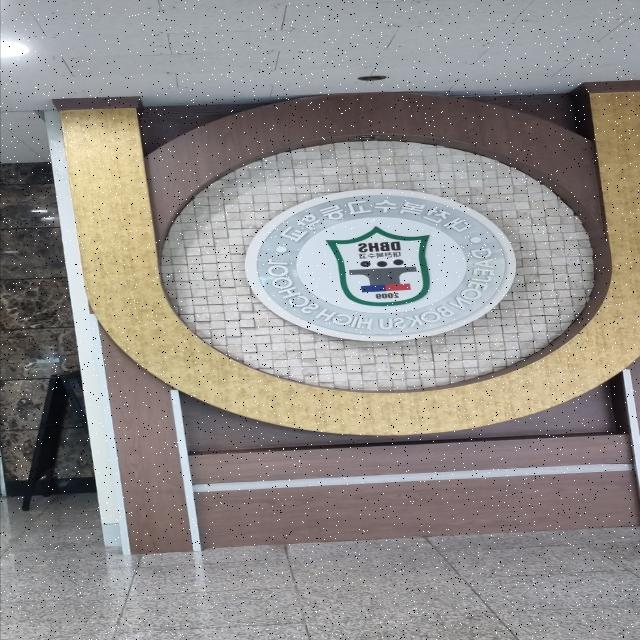logo: (231, 182, 521, 349)
